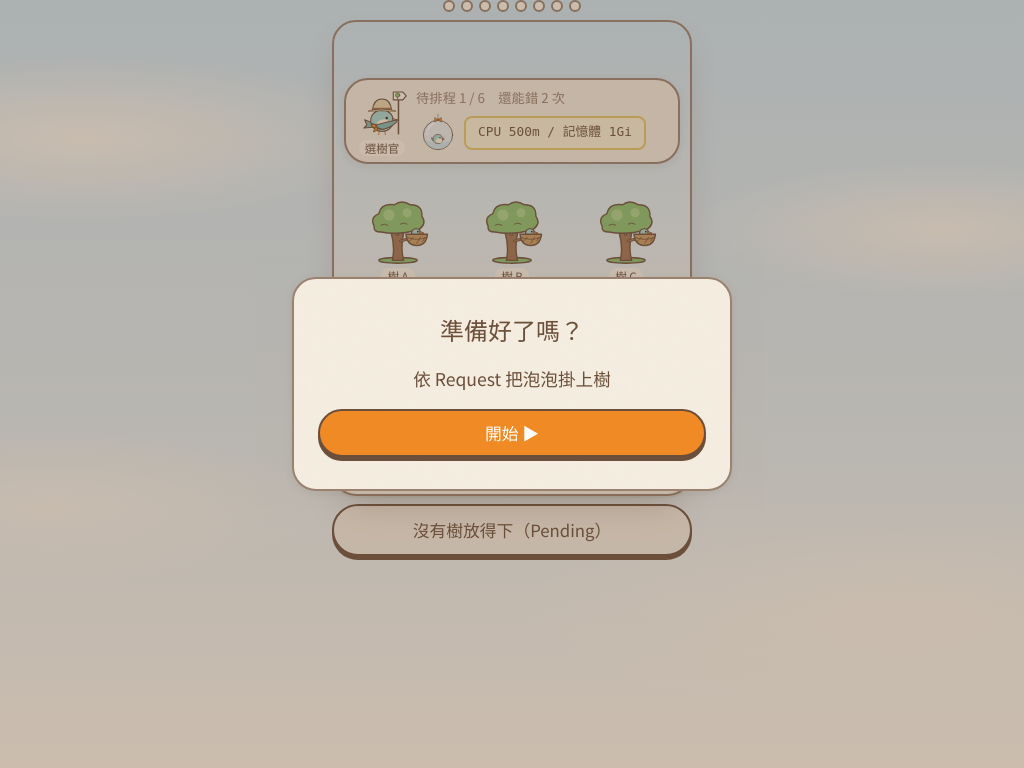
Day25Game › 失敗後重來，舊局的延遲回呼不會改到新局
Step 1. Click the button with test id "shell-start" → [512, 433], box [318,409,706,457]
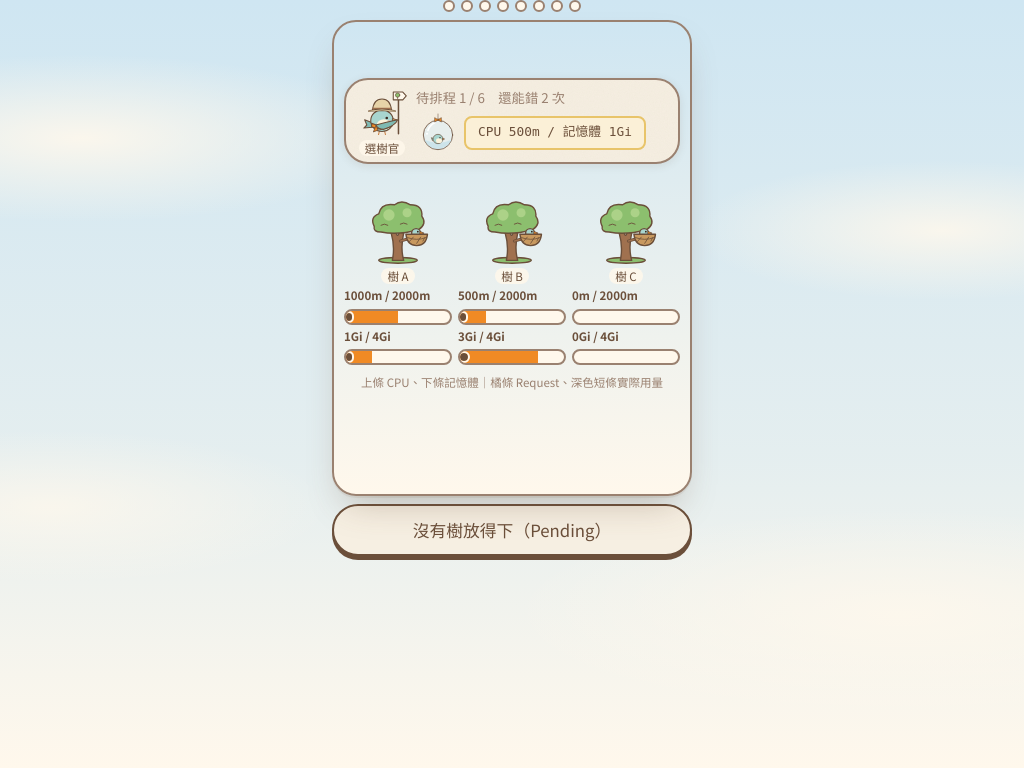
Step 2. Click the button with test id "pending-btn" → [512, 530], box [332,504,692,556]
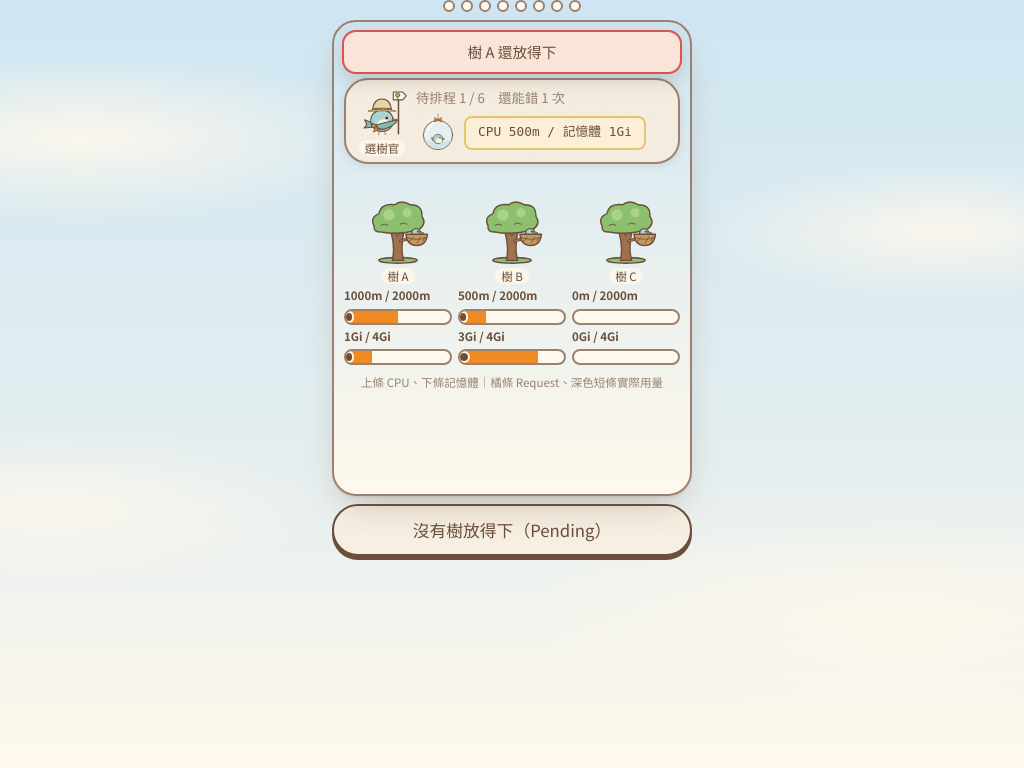
Step 3. Click the button with test id "pending-btn" → [512, 530], box [332,504,692,556]
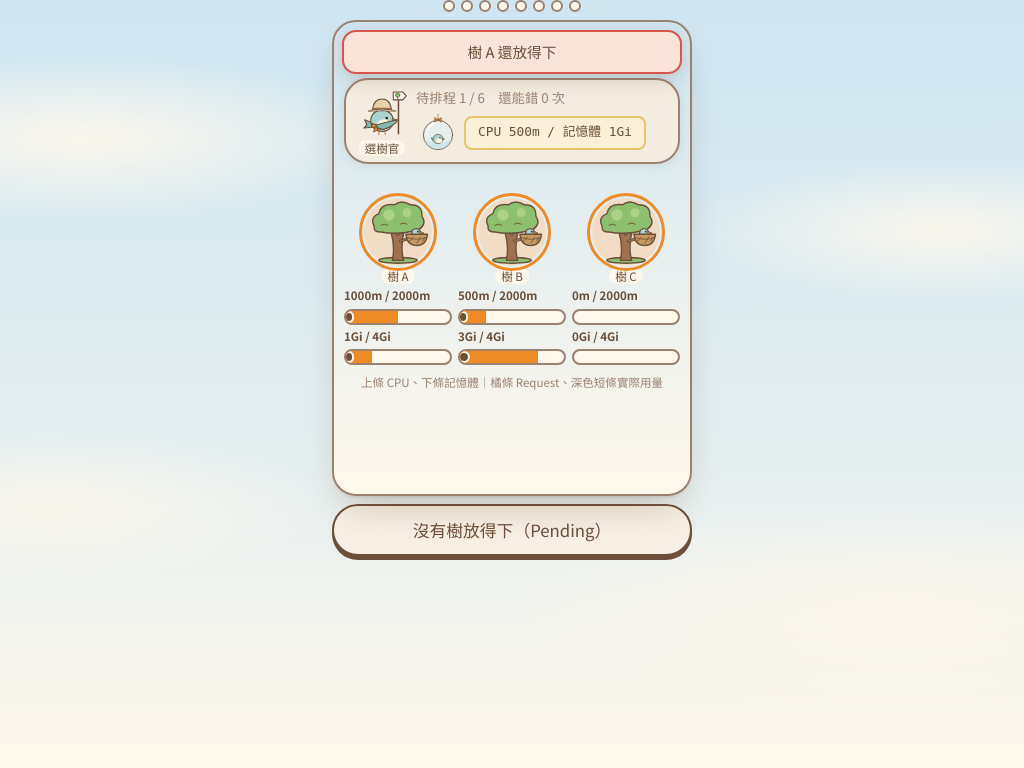
Step 4. Click the button with test id "pending-btn" → [512, 530], box [332,504,692,556]
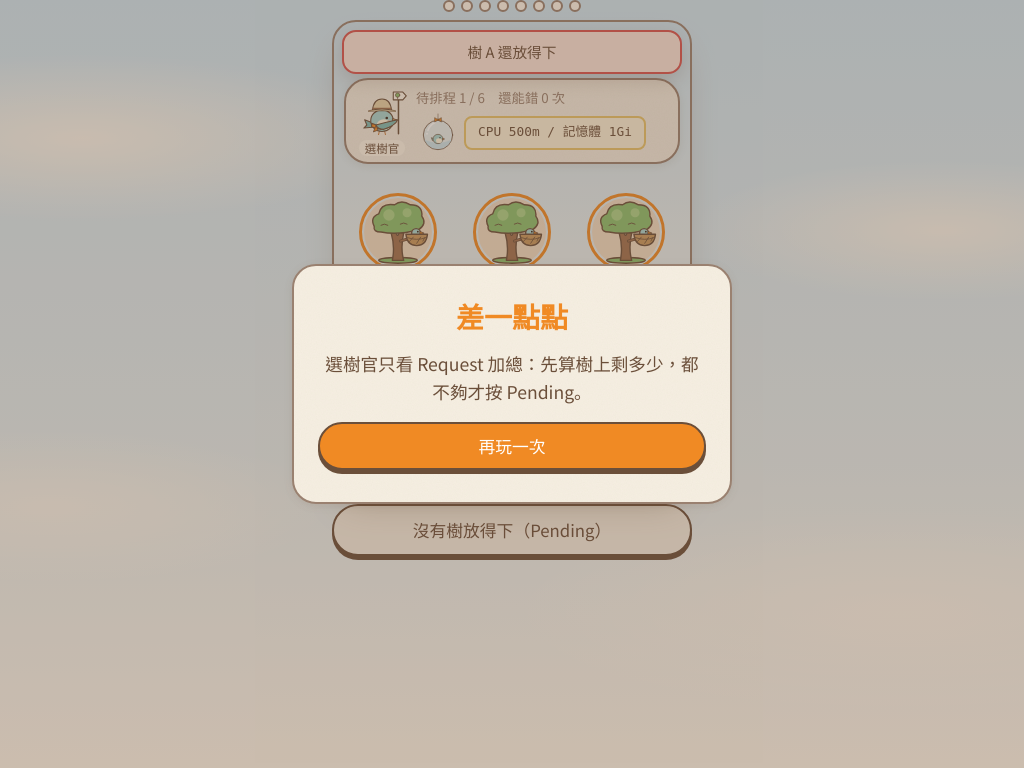
Result: the button with test id "shell-retry" is shown
Step 5. Click the button with test id "shell-retry" → [512, 446], box [318,422,706,470]
Wait 3000 ms
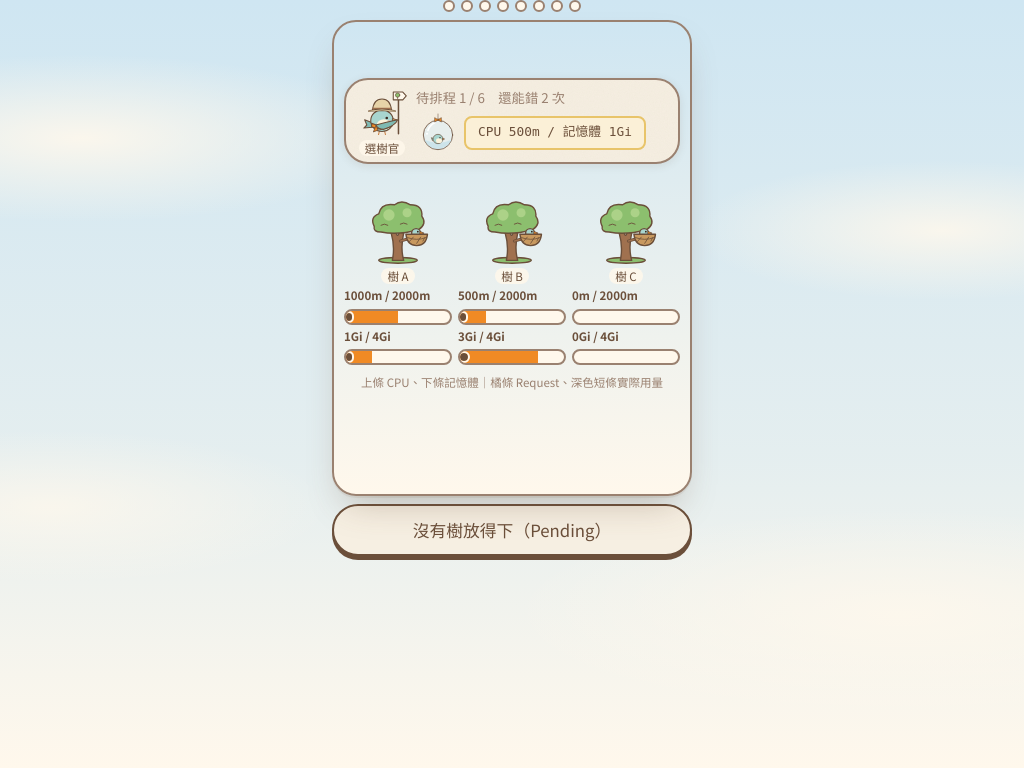
Expected: the text "待排程 1 / 6" is shown, [416,88,565,107]
Result: the text "還能錯 2 次" is shown at [416,88,565,107]
Step 6. Click the button "樹 C" → [626, 241], box [592,198,660,284]
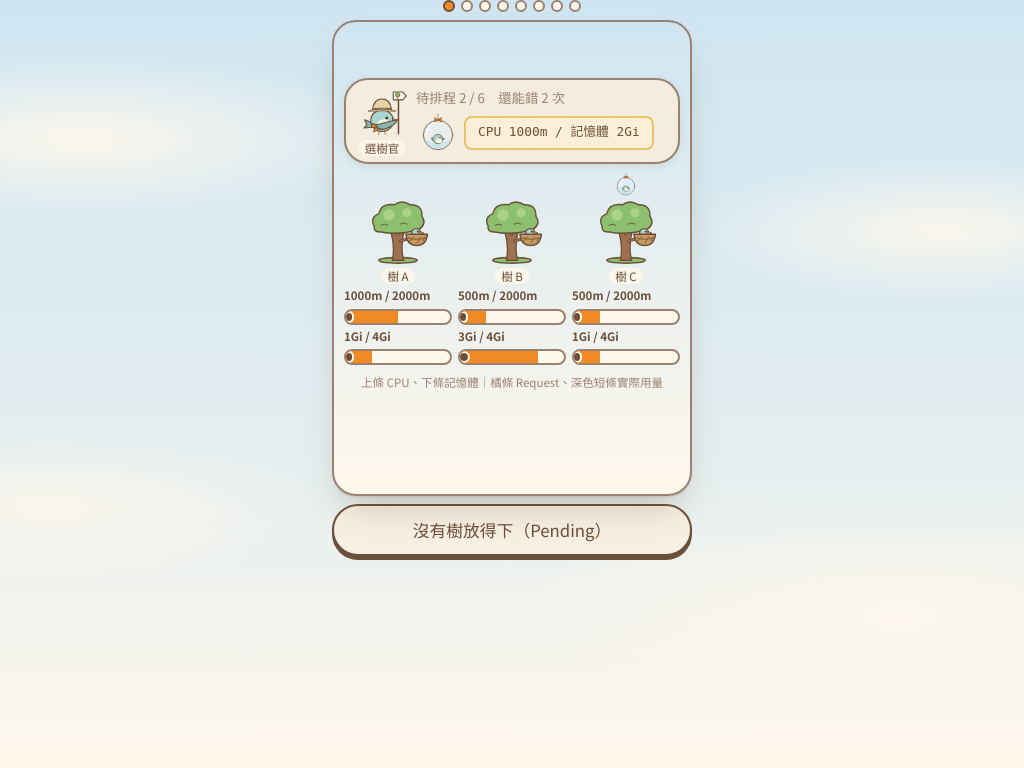
Result: the text "待排程 2 / 6" is shown at [416,88,565,107]
